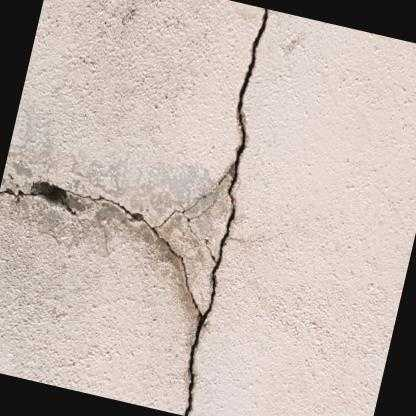crack: (0, 8, 269, 416)
